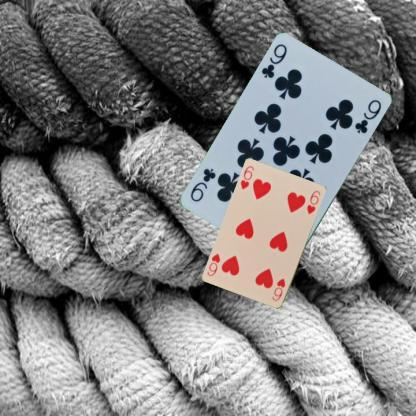6h: (238, 164, 255, 190), (270, 276, 286, 302)
9c: (259, 41, 288, 80)
